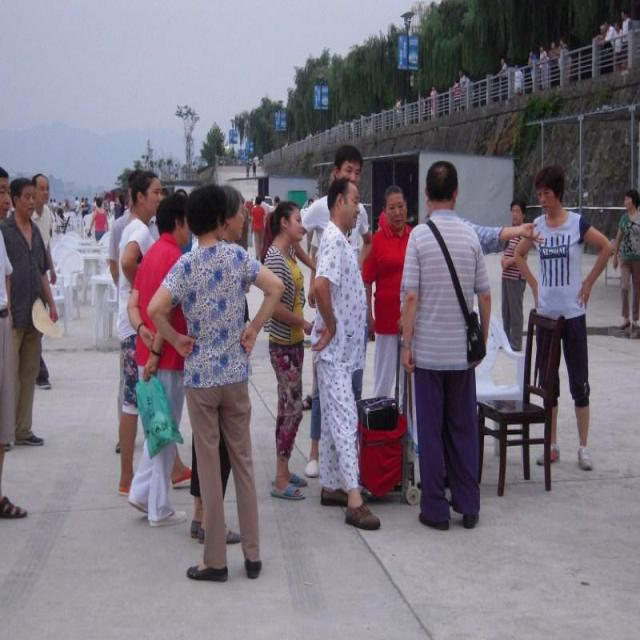non-fight: (146, 180, 288, 582), (387, 152, 494, 534), (507, 162, 604, 483), (110, 175, 196, 525), (311, 178, 380, 528), (0, 168, 62, 525), (256, 176, 315, 521), (361, 186, 413, 409), (0, 207, 18, 508), (499, 200, 532, 352), (610, 186, 640, 335), (251, 197, 267, 262), (90, 198, 108, 242), (620, 12, 632, 64), (593, 27, 606, 74), (613, 20, 625, 69), (548, 42, 560, 87), (495, 57, 508, 98), (240, 198, 250, 250), (603, 22, 618, 56), (558, 39, 569, 83), (539, 45, 549, 89), (460, 70, 470, 107), (528, 50, 537, 90), (514, 67, 524, 96), (453, 78, 461, 112), (429, 86, 436, 118), (114, 198, 124, 220), (79, 198, 86, 219), (252, 160, 256, 178), (246, 162, 250, 178)
